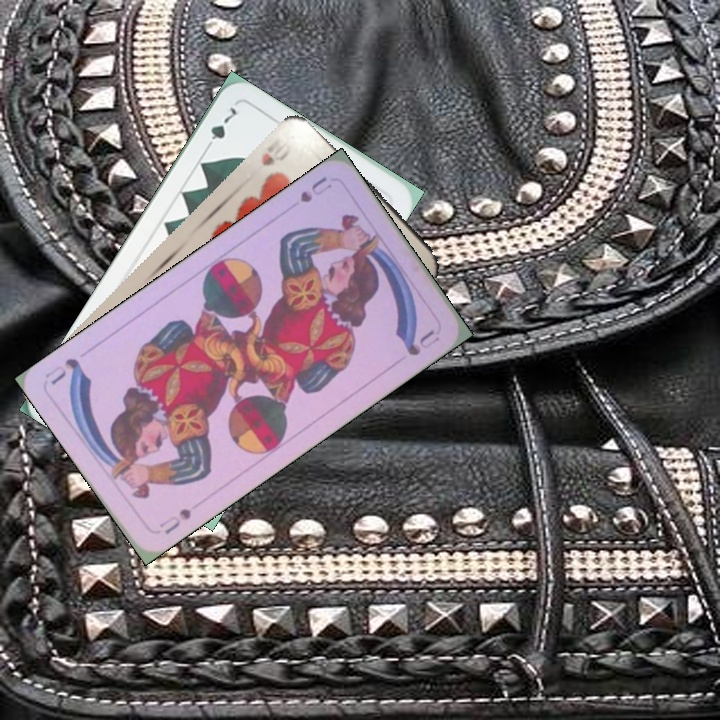G7: (200, 101, 240, 154)
H10: (257, 134, 295, 169)
SU: (296, 172, 334, 206), (155, 504, 194, 537)
